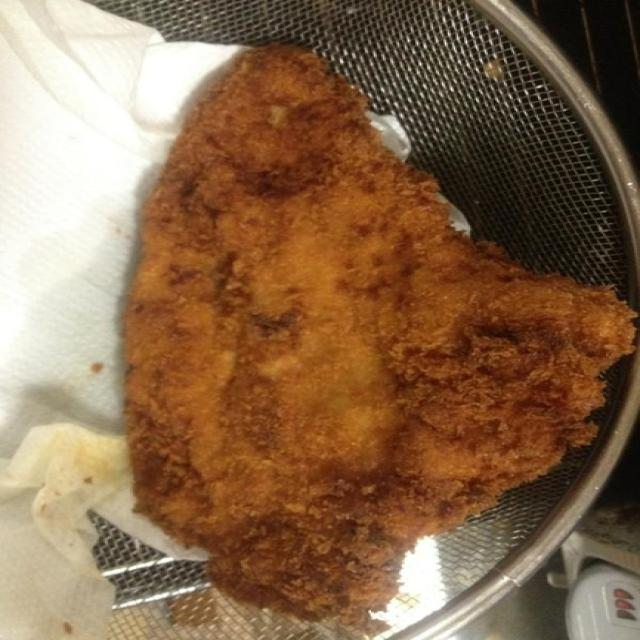鸡肉料理 含炸鸡: (114, 37, 624, 608)
